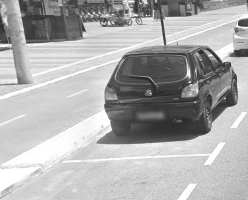car: (102, 42, 243, 142)
